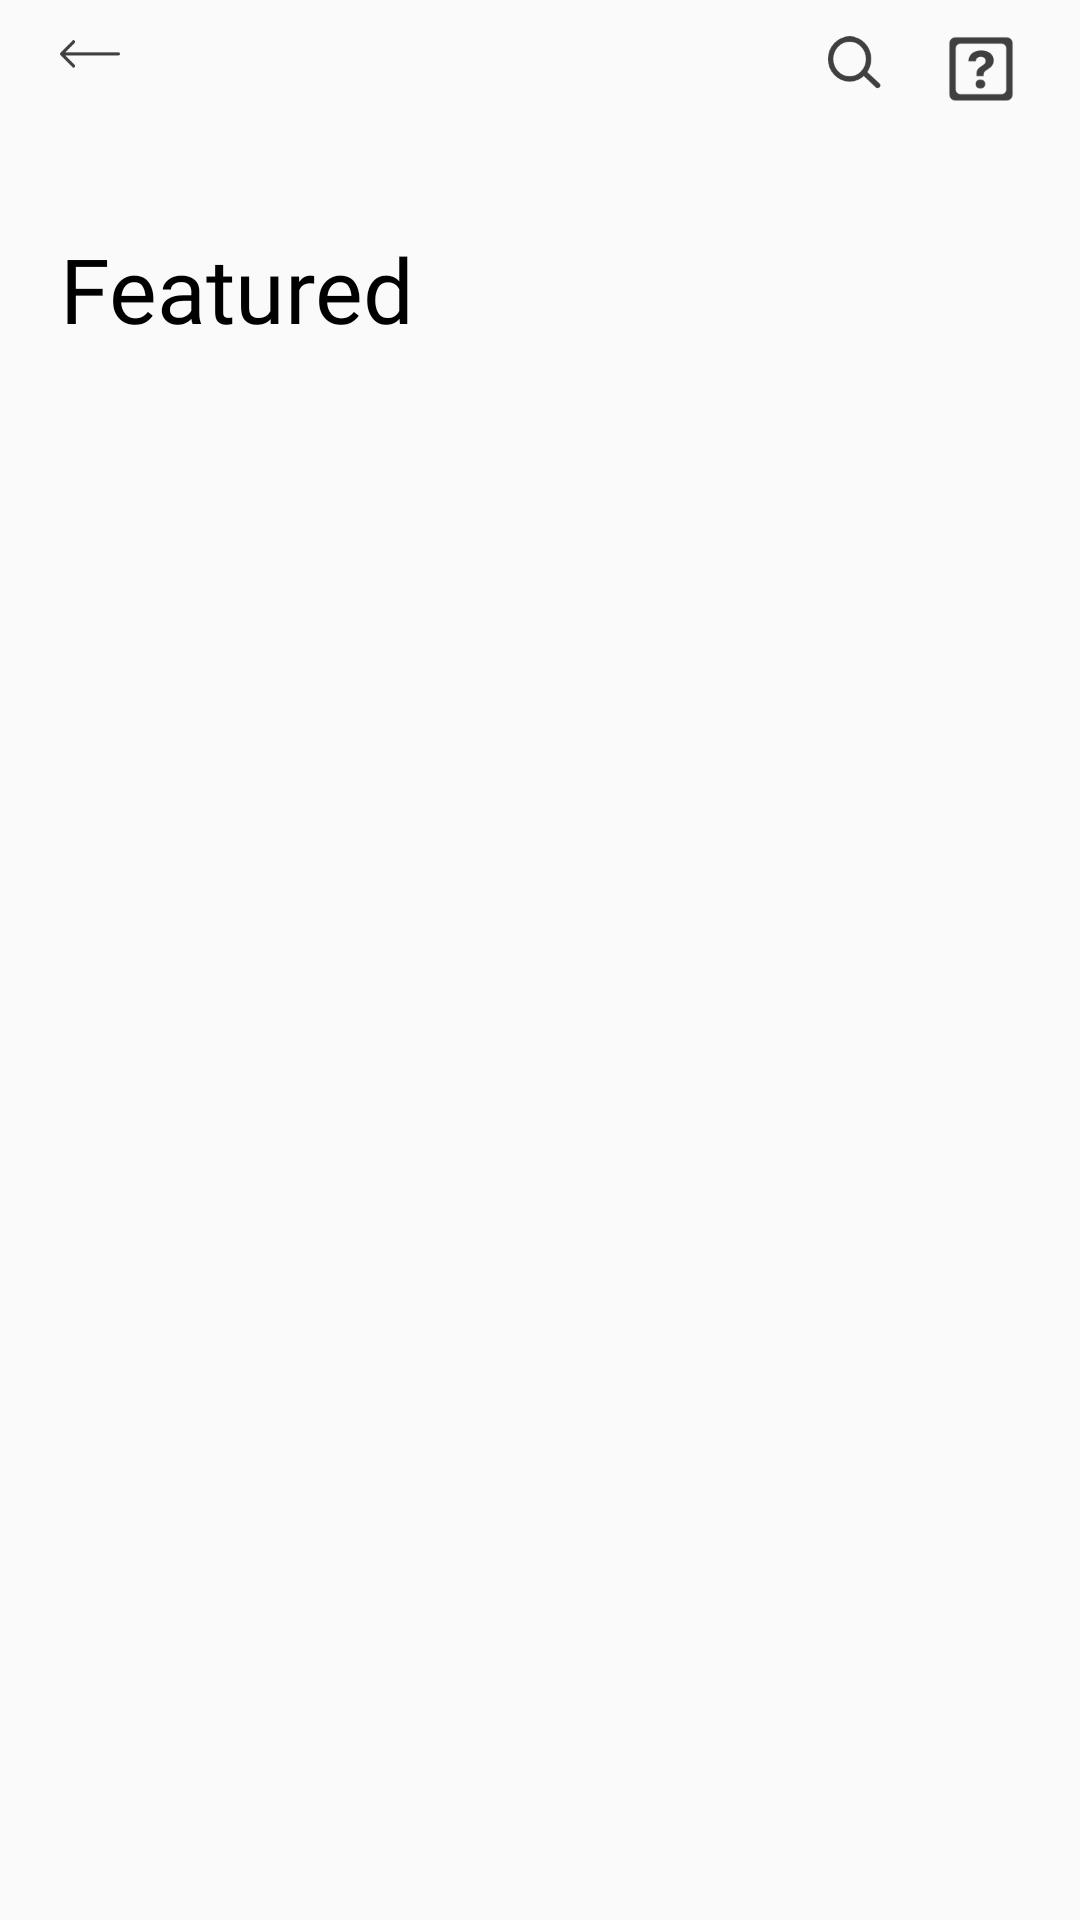

Named icons in this screenshot (1080px x 1920px) and their centers, [x,y]:
ask: [981,69]
search: [854,62]
